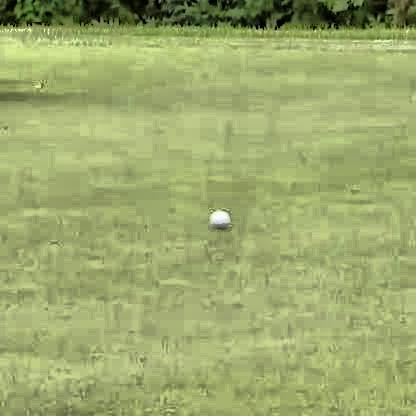golfball: (205, 205, 228, 228)
